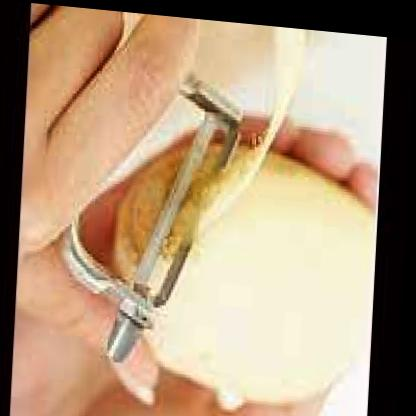Disposable tableware: (76, 18, 416, 401)
